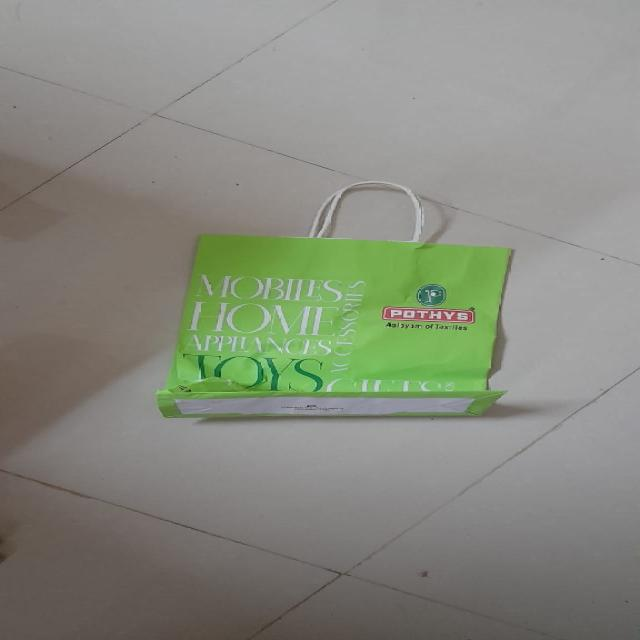Paper_Bag - Recyclable: (154, 232, 516, 418)
